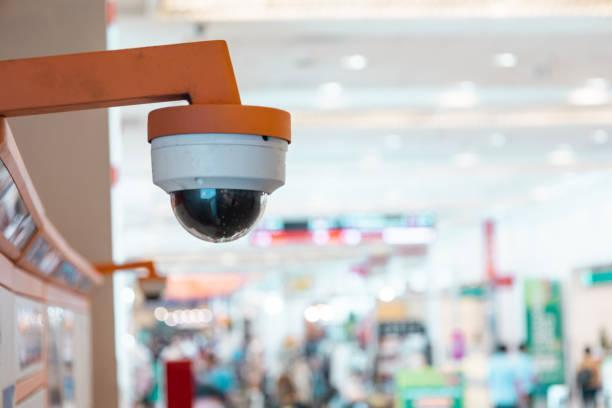camera: (122, 96, 318, 252)
